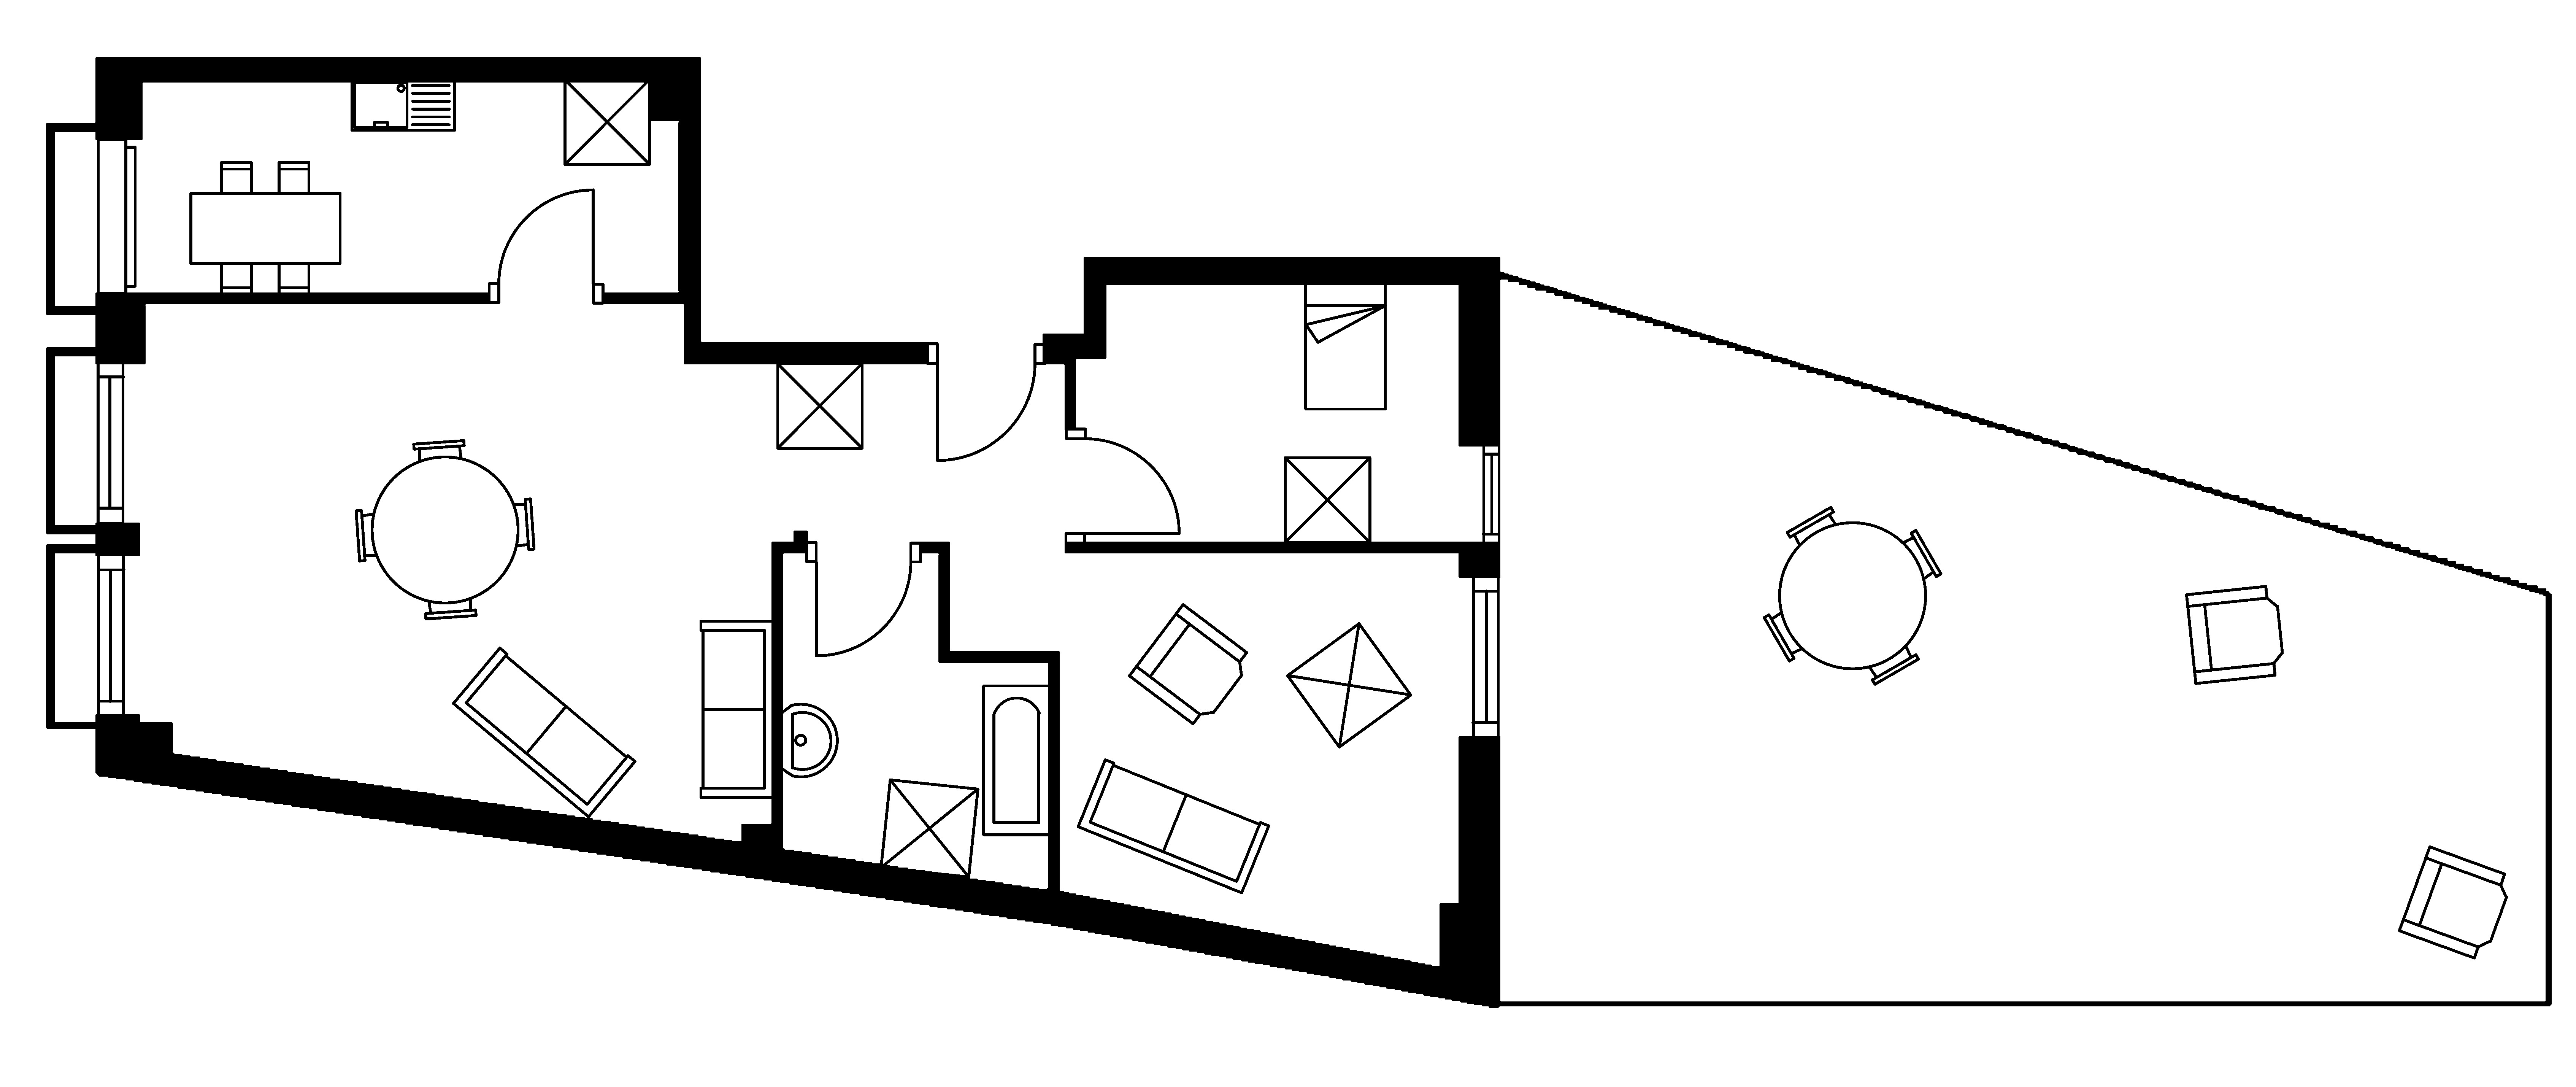armchair: (1127, 602, 1249, 725), (2397, 845, 2509, 960), (2185, 584, 2284, 686)
bed: (1303, 281, 1387, 411)
coffee_table: (1285, 622, 1413, 748), (879, 778, 979, 878), (562, 77, 651, 166), (775, 362, 864, 451), (1283, 456, 1372, 544)
dining_table: (189, 160, 342, 296)
large_sofa: (452, 646, 636, 819), (1076, 758, 1270, 895), (698, 618, 774, 799)
round_table: (353, 439, 536, 620), (1761, 505, 1942, 686)
sink: (350, 77, 457, 132)
small_sink: (780, 702, 838, 778)
tub: (981, 684, 1051, 837)
